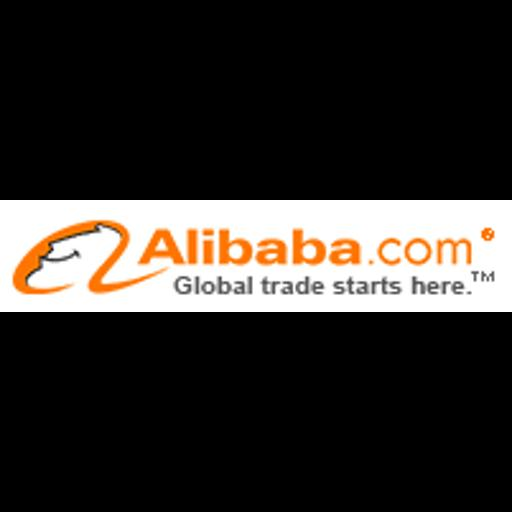Alibaba: (0, 200, 512, 312)
